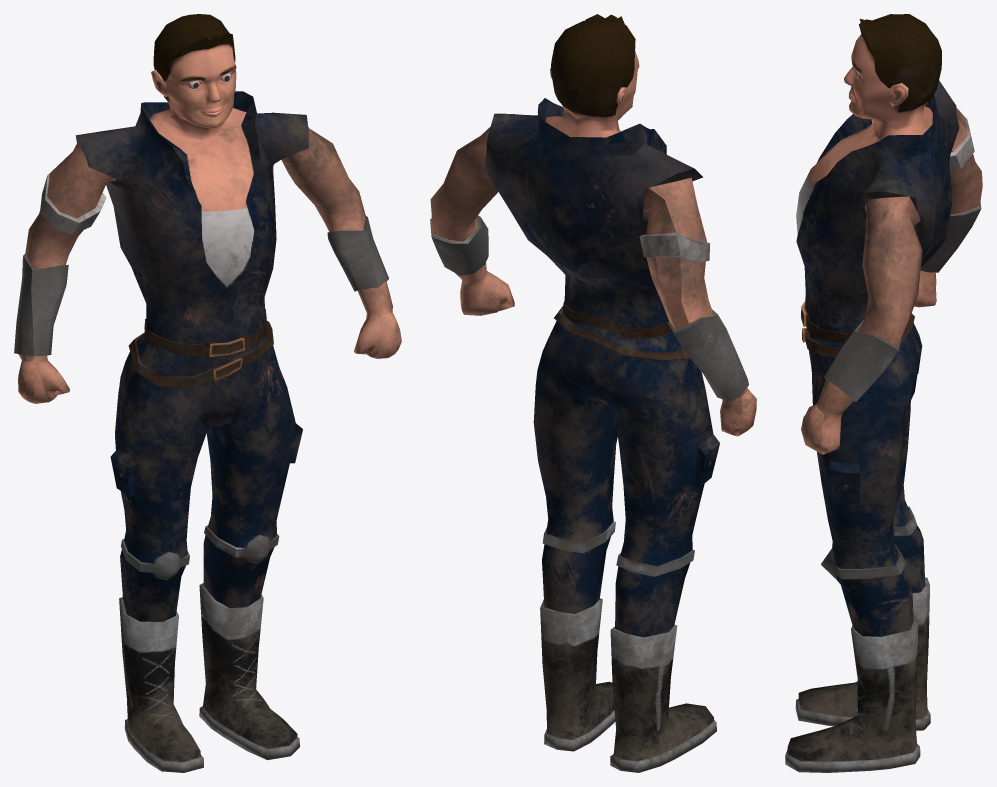
File: Anim_ataque_d1_jugador.0012.obj
3 renders of one model, left to right at view 1: azimuth 30°, elevation 25°; view 2: azimuth 150°, elevation 25°; view 3: azimuth 270°, elevation 25°, orthographic. The views are drawn at different scales.
Parts seen in each view (by area): view 1: polySurface1; view 2: polySurface1; view 3: polySurface1.
Part boxes in pixels (x1,y1,x2,y2): polySurface1: [14, 14, 401, 772]; polySurface1: [430, 14, 756, 772]; polySurface1: [785, 14, 982, 772].
Size of the model in its own units: 4.72 by 9.61 by 2.36.
